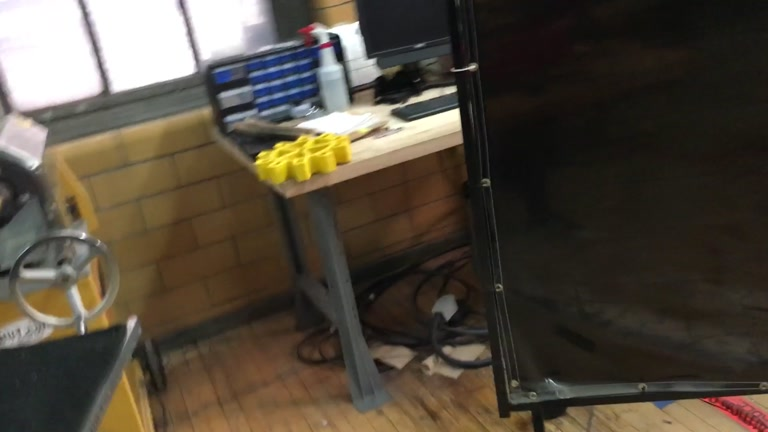gear: (253, 130, 352, 185)
